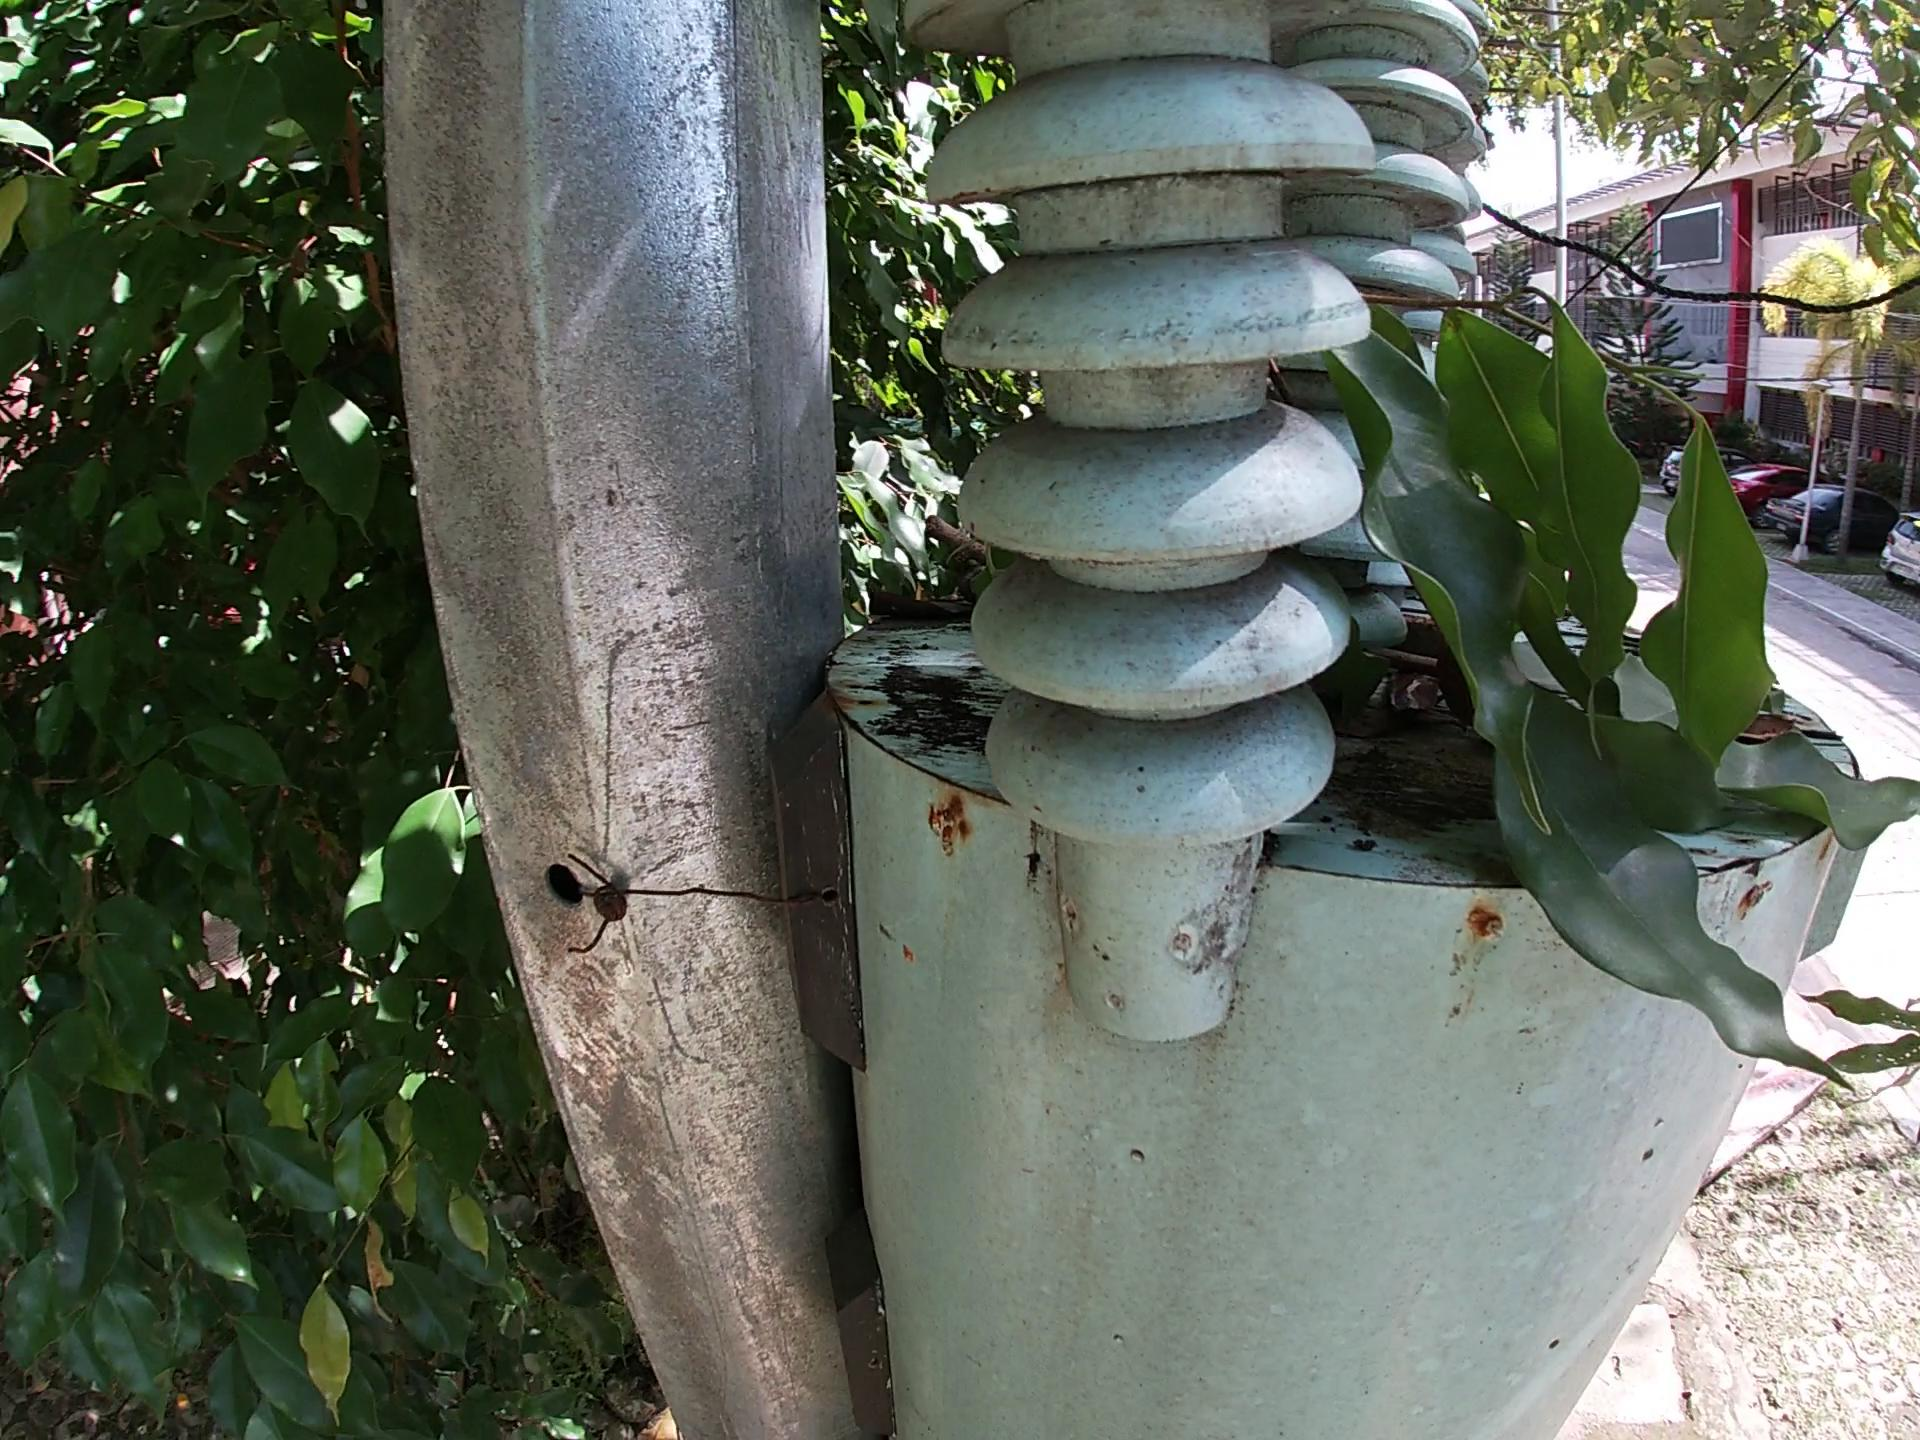branch with leaves: (1302, 256, 1912, 1147)
leaf: (862, 585, 971, 632)
tree branch: (915, 510, 998, 566)
